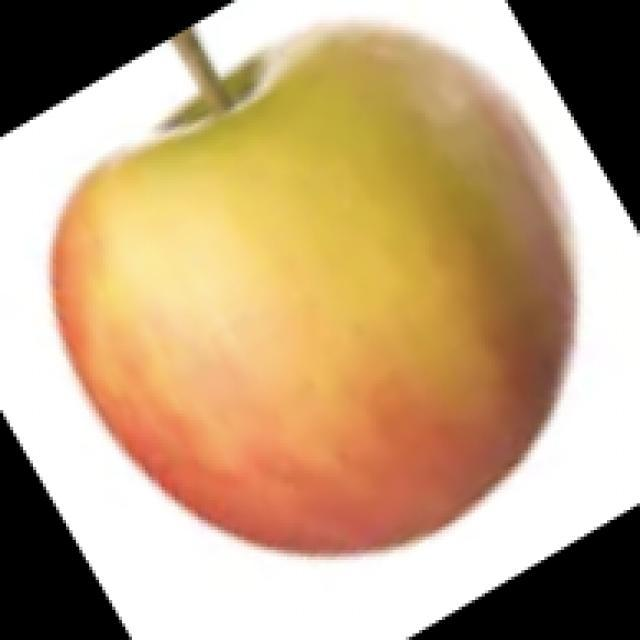Fresh Apple: (74, 35, 548, 500)
